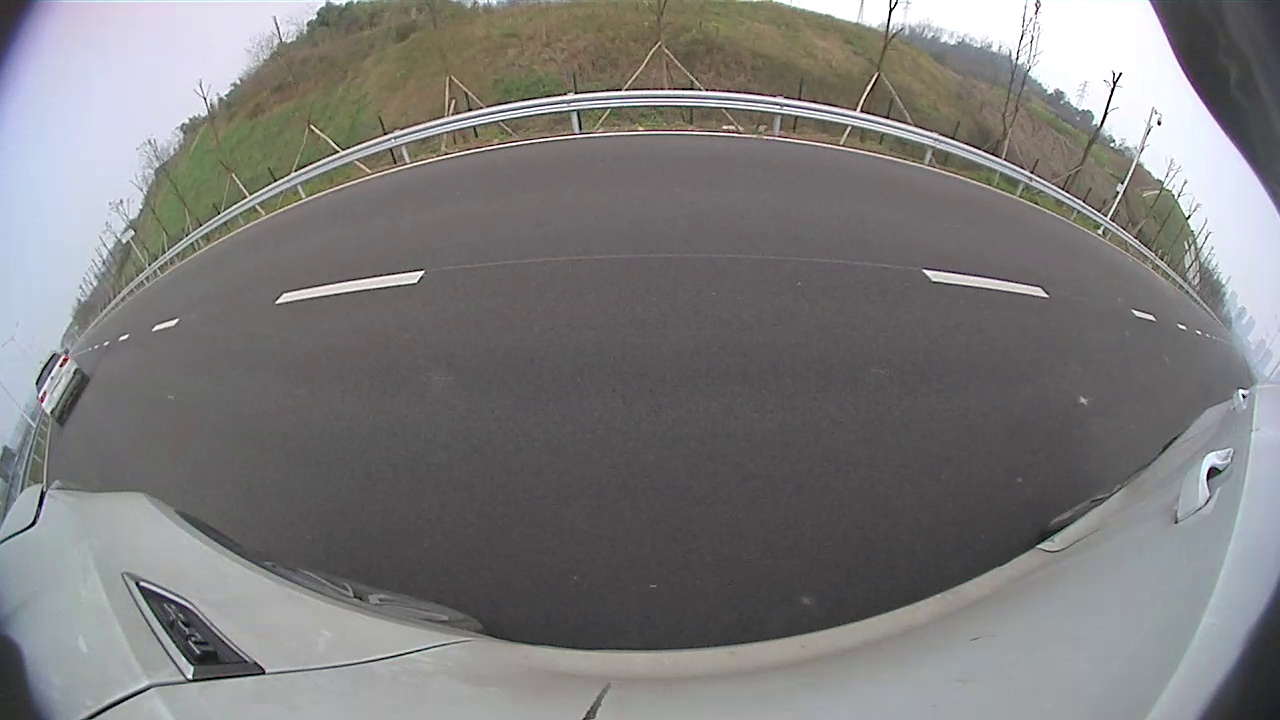car: (36, 352, 89, 426)
